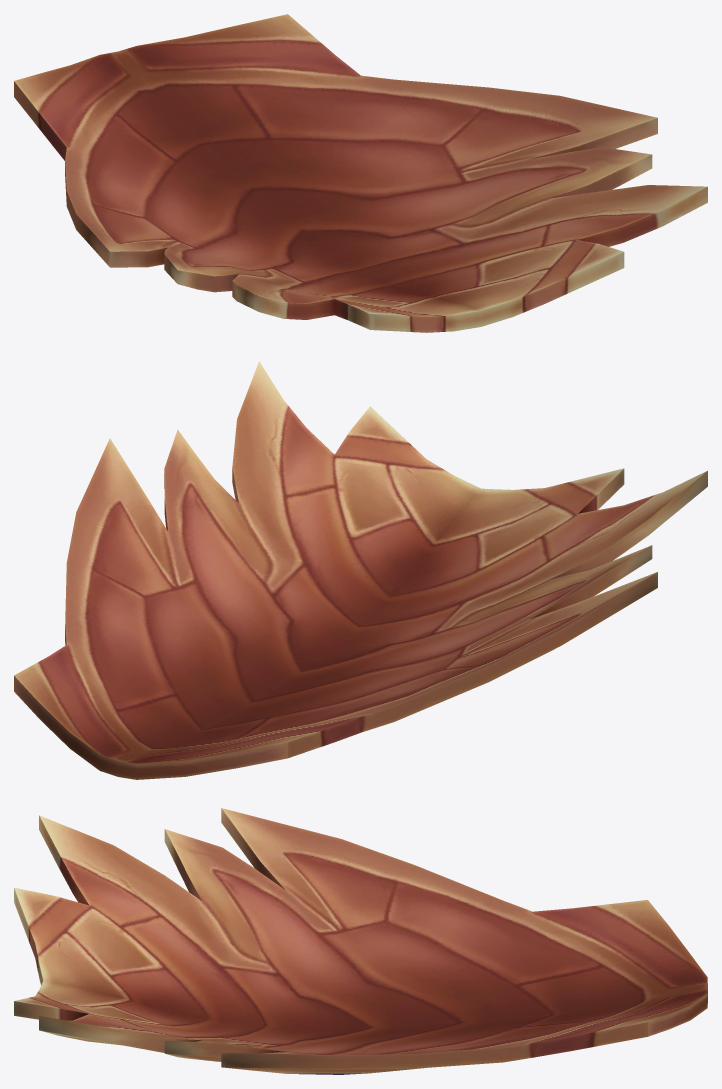
3 renders of one model, top to bottom at view 1: azimuth 30°, elevation 25°; view 2: azimuth 150°, elevation 25°; view 3: azimuth 270°, elevation 25°, orthographic. The views are drawn at different scales.
Visible parts, largest first — view 1: "Editable Mesh"; view 2: "Editable Mesh"; view 3: "Editable Mesh".
Part boxes in pixels (box(x1,y1,x2,y2)): "Editable Mesh": box(14, 14, 707, 332); "Editable Mesh": box(14, 361, 707, 779); "Editable Mesh": box(14, 808, 707, 1074).
Size of the model in its own units: 0.7134 by 0.1734 by 0.8549.
